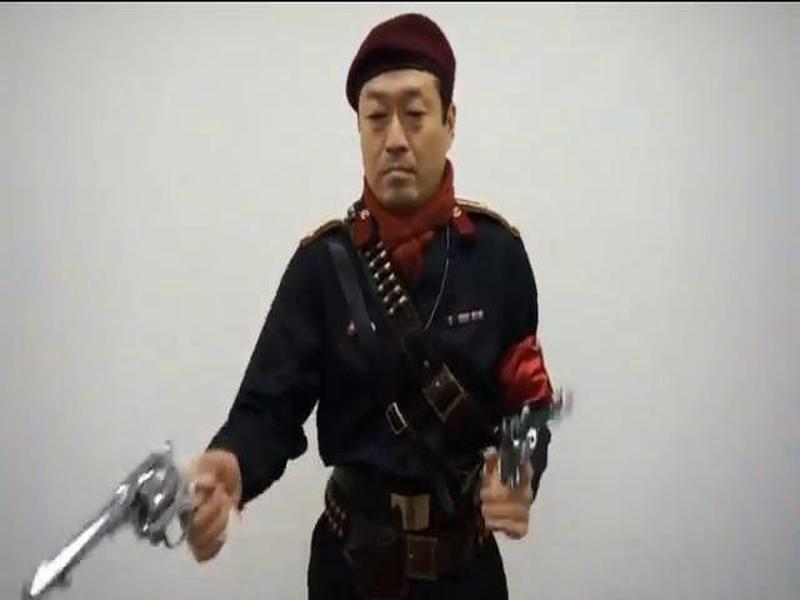Revolver: (18, 433, 216, 600), (454, 394, 598, 543)
